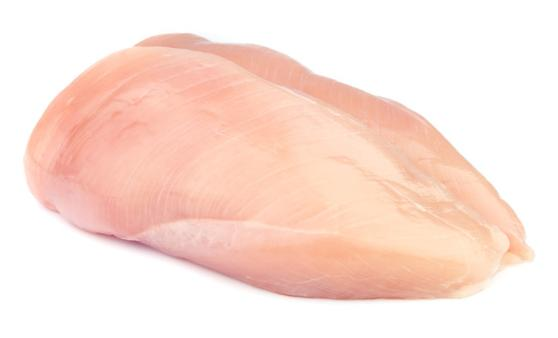chicken_fillet: (30, 33, 538, 298)
